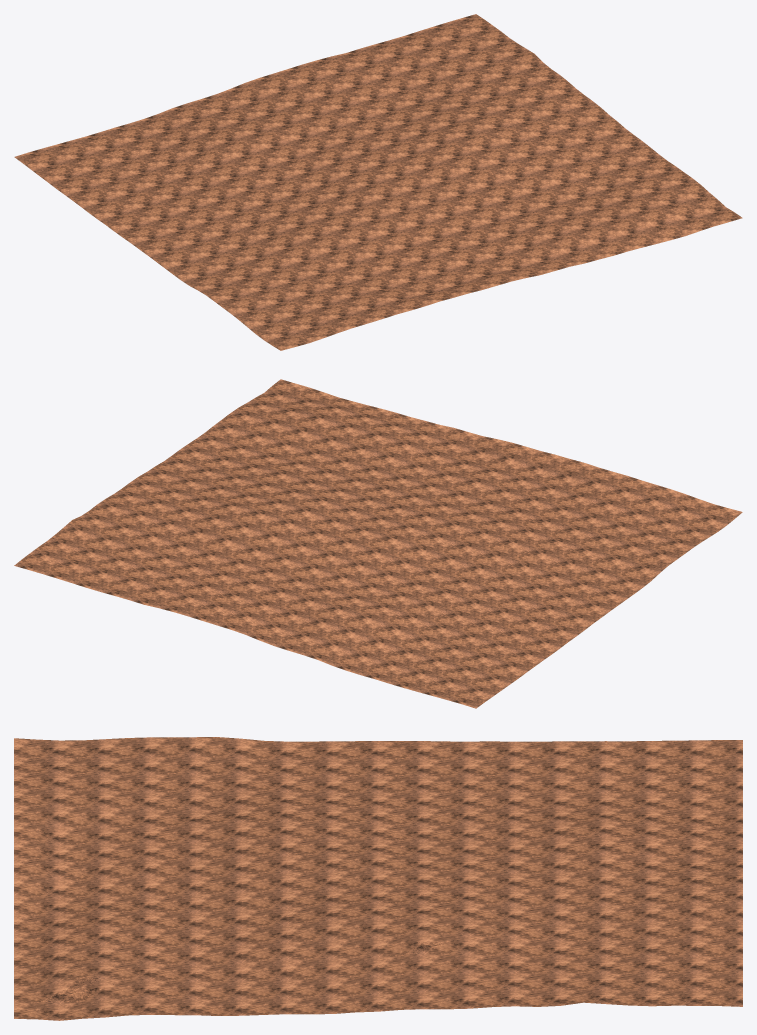
The model's file is terrain_05_21.dae.
The picture shows the model from 3 angles, top to bottom: view 1: azimuth 30°, elevation 25°; view 2: azimuth 150°, elevation 25°; view 3: azimuth 270°, elevation 25°; orthographic projection. The views are drawn at different scales.
Visible parts, largest first — view 1: terrain_05_21-node; view 2: terrain_05_21-node; view 3: terrain_05_21-node.
Boxes of the visible parts, bbox=[...] form: terrain_05_21-node: bbox=[14, 14, 742, 350]; terrain_05_21-node: bbox=[14, 379, 742, 708]; terrain_05_21-node: bbox=[14, 737, 742, 1020].
Bounding box in the file's own units: 128 × 128 × 9.13.
1 material, 1 textured.
